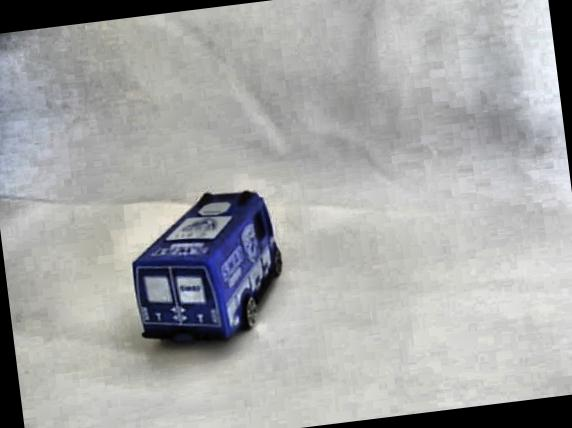police car: (120, 172, 296, 360)
